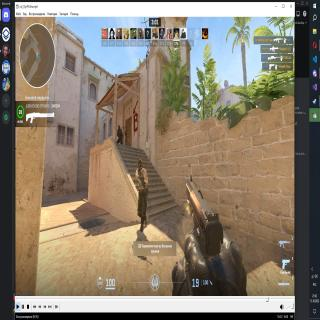CT-Body: (117, 125, 123, 145)
CT-Head: (115, 123, 123, 134)
T-Body: (133, 158, 152, 234)
T-Head: (138, 158, 143, 172)
